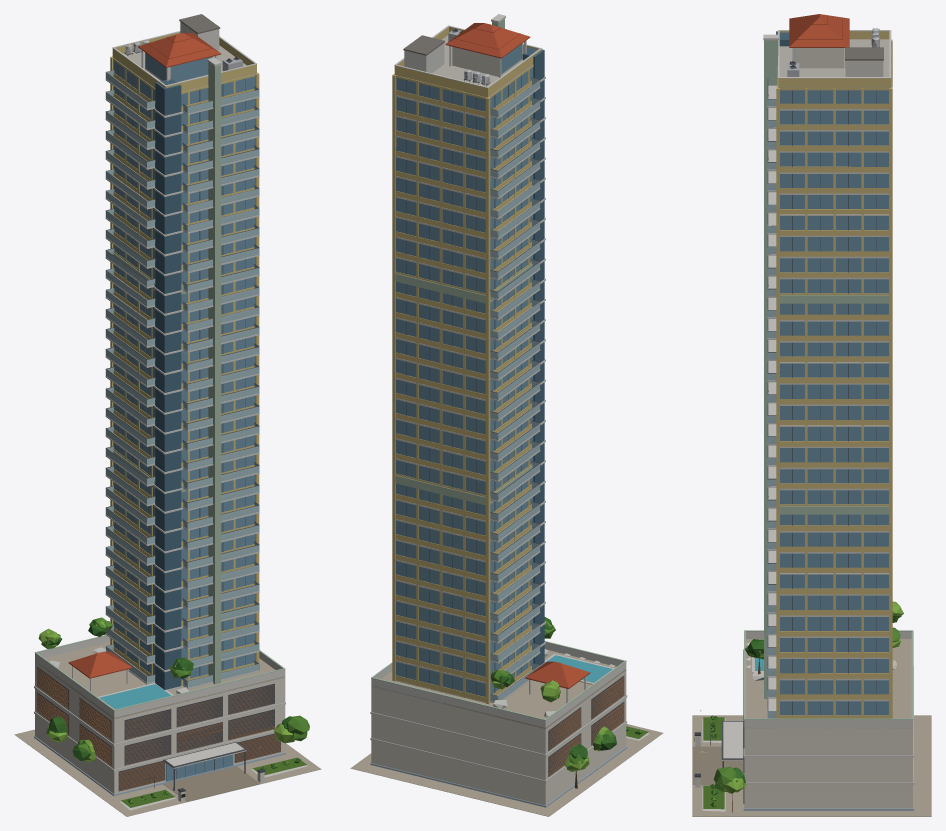
The model's file is home_5.glb.
3 renders of one model, left to right at view 1: azimuth 30°, elevation 25°; view 2: azimuth 150°, elevation 25°; view 3: azimuth 270°, elevation 25°, orthographic. The views are drawn at different scales.
Visible parts, largest first — view 1: body; view 2: body; view 3: body.
Boxes of the visible parts, left/top/right/bottom form: body: left=14, top=14, right=321, bottom=816; body: left=350, top=14, right=662, bottom=816; body: left=692, top=14, right=931, bottom=816.
Bounding box in the file's own units: 33.07 × 112 × 31.9.
